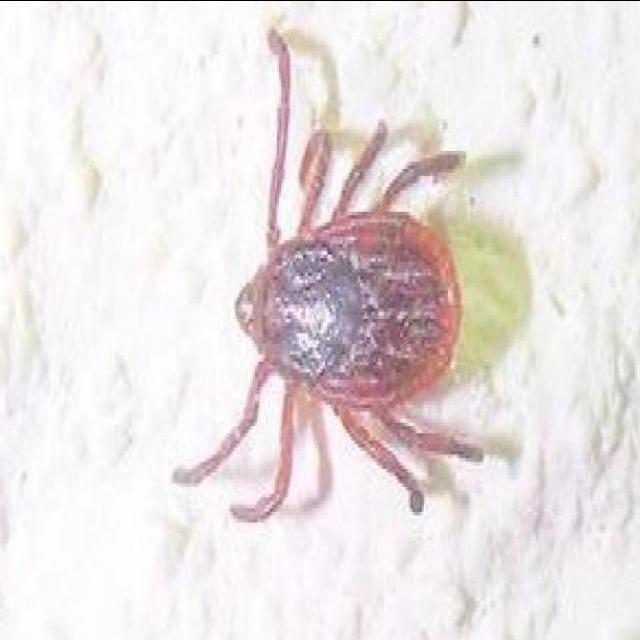Rhipicephalus Sanguineus-F: (174, 29, 488, 521)
